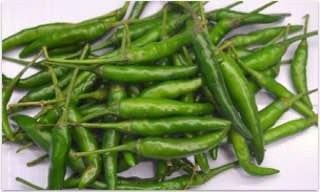lada hijau: (191, 26, 249, 137), (23, 15, 117, 61), (98, 80, 134, 192), (124, 22, 196, 66), (113, 95, 220, 124), (98, 165, 221, 189), (287, 36, 319, 124), (1, 13, 73, 51), (43, 113, 75, 192), (86, 64, 204, 84), (2, 57, 69, 91), (133, 135, 232, 158), (138, 75, 203, 105), (119, 116, 224, 134)
